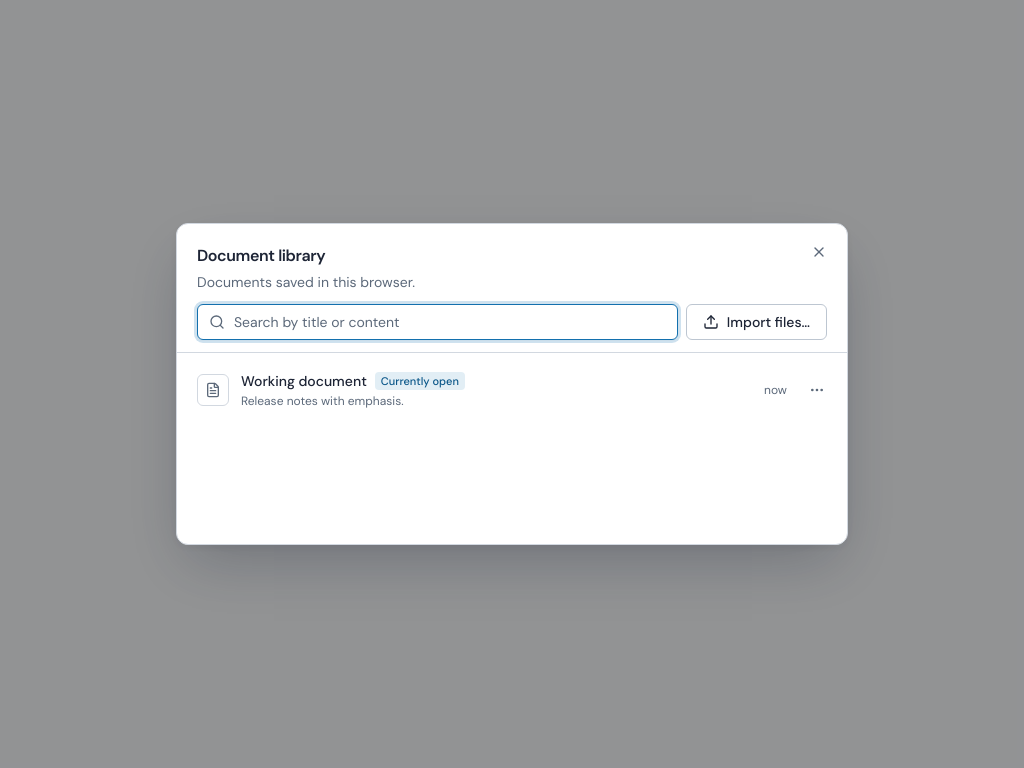
Test: document library text search › keeps focus in the search field after either clear button
Later steps or results of the test are not shown.
Type "zzz" into the field named "Search saved documents" at (437, 322), box [197, 304, 678, 340]
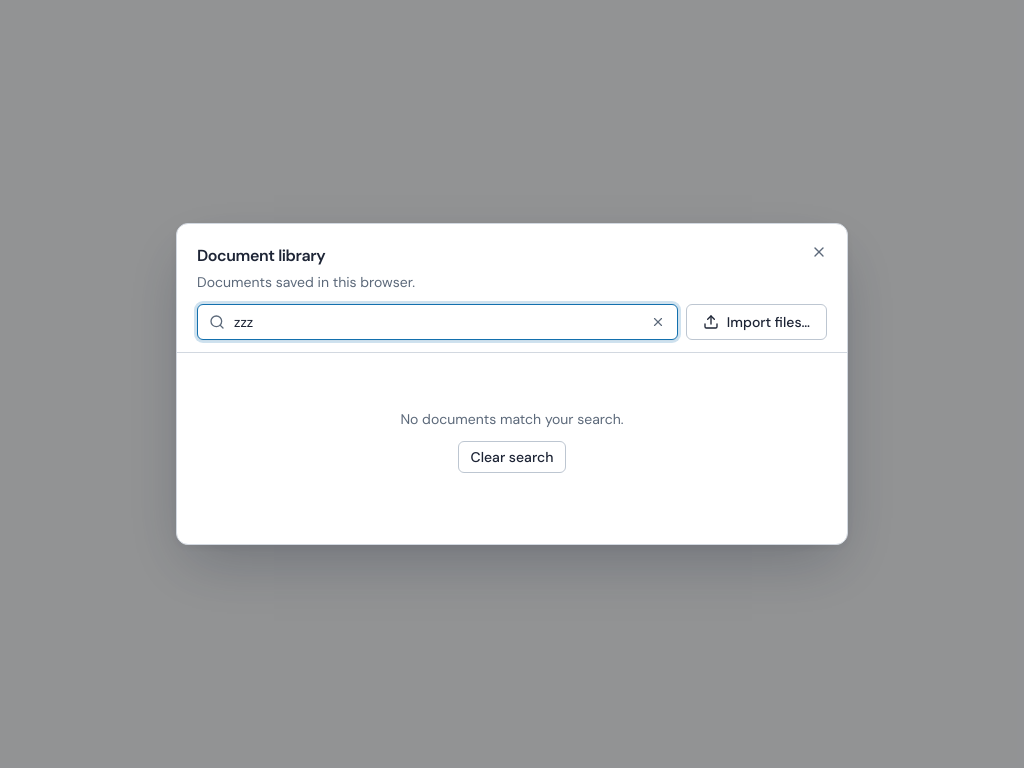
Click the button named "Clear search" at (658, 322), box [644, 308, 672, 336]
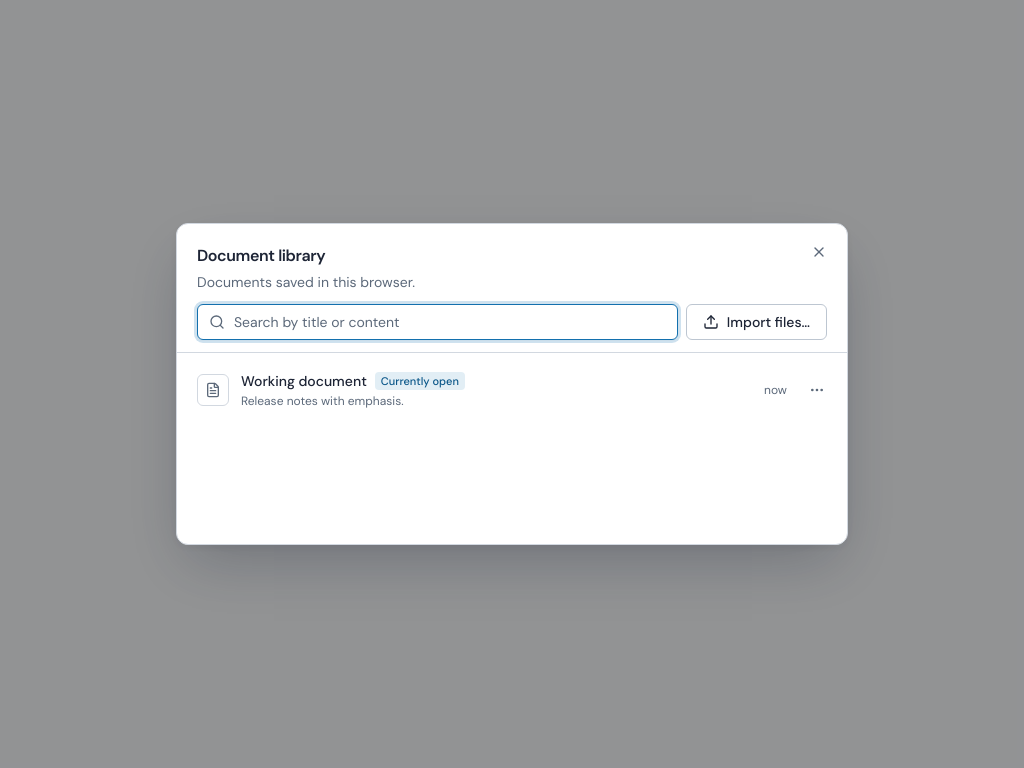
Result: the field named "Search saved documents" is empty at [197, 304, 678, 340]
